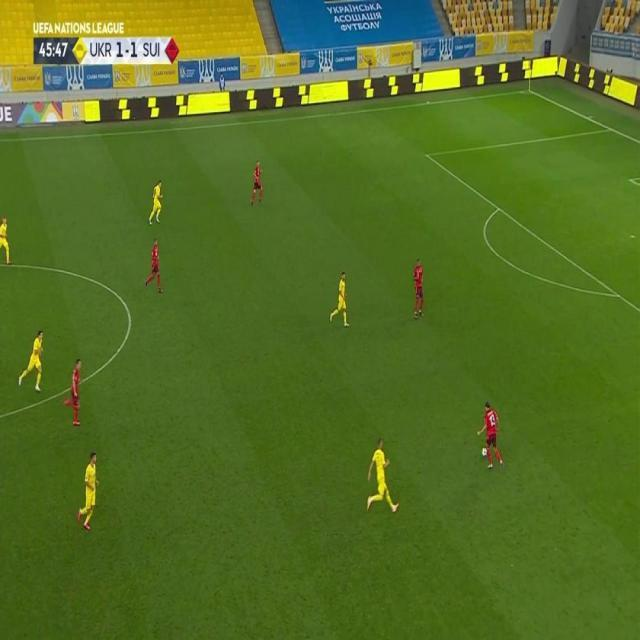ball: (481, 445, 488, 459)
player: (364, 437, 400, 519), (475, 401, 504, 471), (16, 330, 47, 392), (78, 453, 101, 531), (63, 356, 85, 427), (328, 270, 351, 329), (143, 238, 164, 295), (411, 256, 426, 318), (147, 179, 164, 225), (248, 158, 264, 206), (0, 214, 13, 264)
